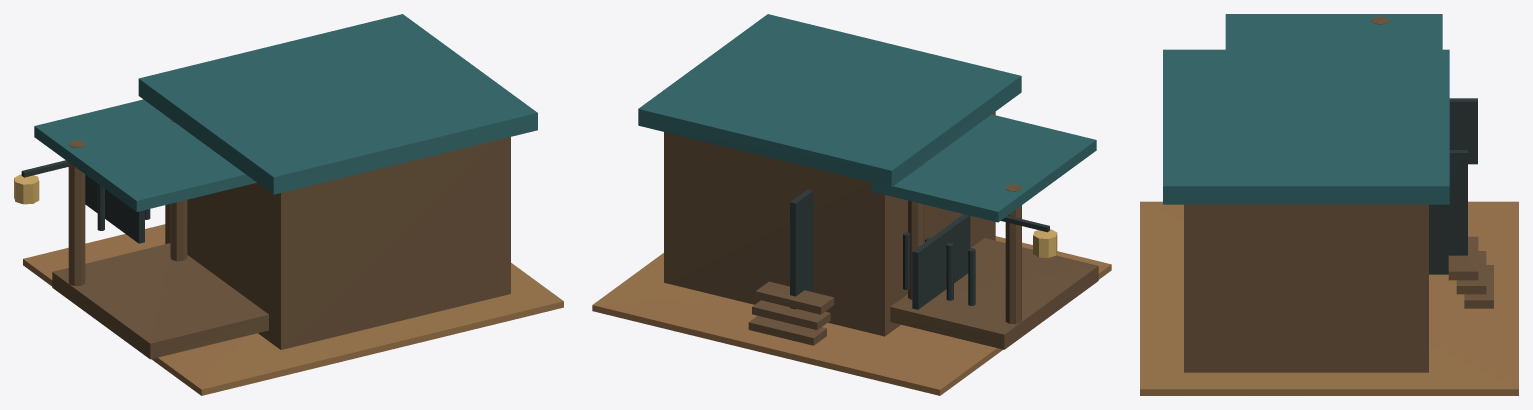
Rendered from Forester-Hut.glb.
3 renders of one model, left to right at view 1: azimuth 30°, elevation 25°; view 2: azimuth 150°, elevation 25°; view 3: azimuth 270°, elevation 25°, orthographic. The views are drawn at different scales.
Visible parts, largest first — view 1: forester-hut-static-hut-timber, forester-hut-static-hut-teal-roof, forester-hut-static-hut-earth, forester-hut-static-hut-metal, forester-hut-static-hut-lantern; view 2: forester-hut-static-hut-teal-roof, forester-hut-static-hut-timber, forester-hut-static-hut-earth, forester-hut-static-hut-metal, forester-hut-static-hut-lantern; view 3: forester-hut-static-hut-teal-roof, forester-hut-static-hut-timber, forester-hut-static-hut-earth, forester-hut-static-hut-metal.
Part boxes in pixels (x1,y1,x2,y2): forester-hut-static-hut-timber: [52, 119, 510, 359]; forester-hut-static-hut-teal-roof: [34, 14, 537, 211]; forester-hut-static-hut-earth: [23, 224, 563, 395]; forester-hut-static-hut-metal: [21, 160, 150, 243]; forester-hut-static-hut-lantern: [14, 174, 39, 204]; forester-hut-static-hut-teal-roof: [638, 14, 1096, 222]; forester-hut-static-hut-timber: [664, 112, 1098, 349]; forester-hut-static-hut-earth: [592, 236, 1111, 395]; forester-hut-static-hut-metal: [790, 189, 1049, 309]; forester-hut-static-hut-lantern: [1033, 229, 1057, 257]; forester-hut-static-hut-teal-roof: [1163, 14, 1449, 204]; forester-hut-static-hut-timber: [1184, 16, 1493, 372]; forester-hut-static-hut-earth: [1140, 201, 1518, 395]; forester-hut-static-hut-metal: [1429, 98, 1477, 274].
Size of the model in its own units: 5.65 by 2.41 by 4.1.
